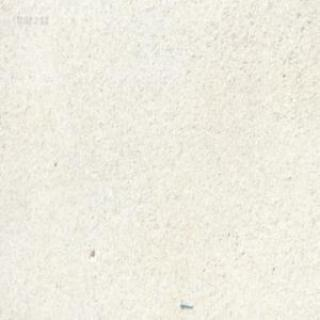Nailtrack_idkeyframe: (178, 298, 192, 307)
